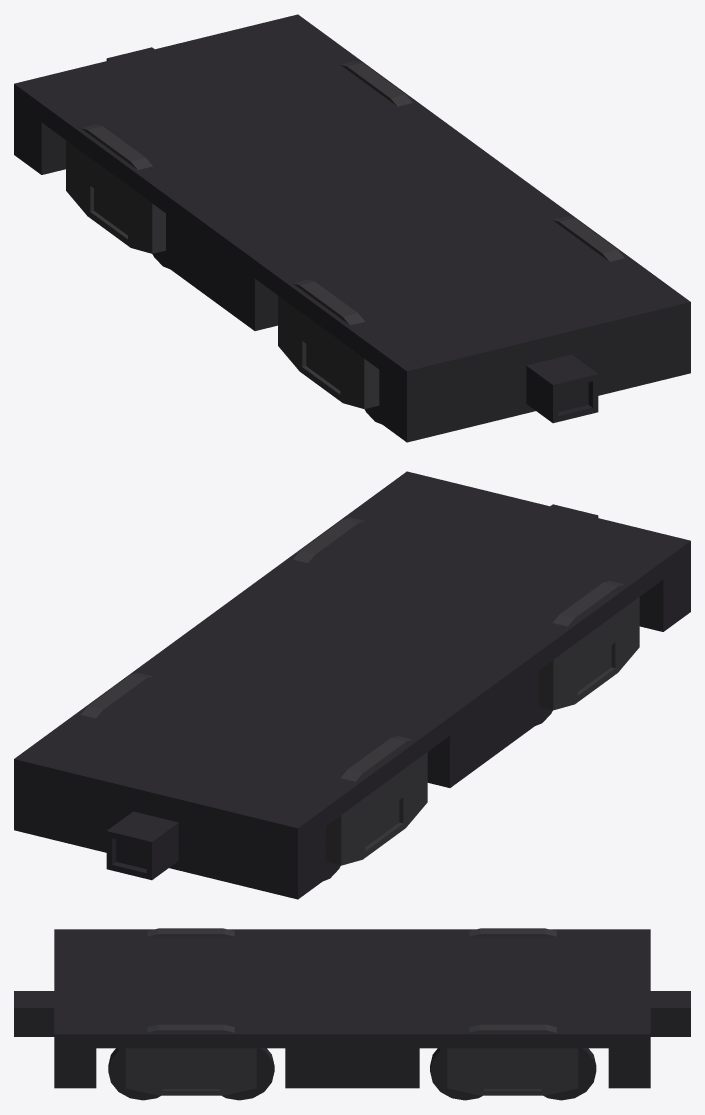
Rendered from mesh_trainbase.fbx.
The picture shows the model from 3 angles, top to bottom: view 1: azimuth 30°, elevation 25°; view 2: azimuth 150°, elevation 25°; view 3: azimuth 270°, elevation 25°; orthographic projection. The views are drawn at different scales.
Parts seen in each view (by area): view 1: trainbase; view 2: trainbase; view 3: trainbase.
Part boxes in pixels (x1,y1,x2,y2): trainbase: [14, 14, 690, 442]; trainbase: [14, 471, 690, 899]; trainbase: [14, 928, 690, 1100].
Size of the model in its own units: 3.08 by 1.07 by 8.39.
